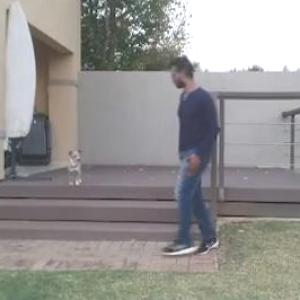follow: (164, 56, 218, 230)
